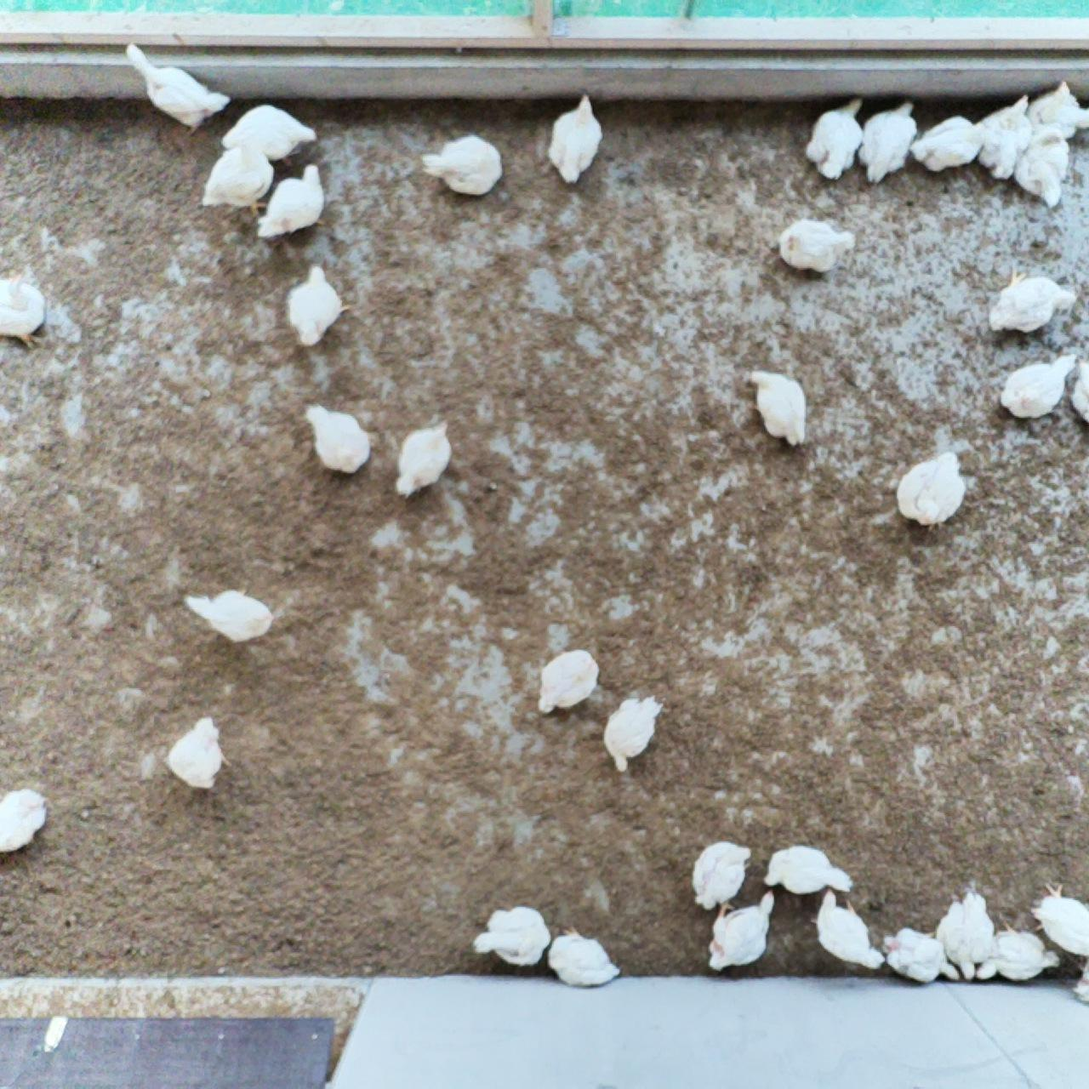chicken: (126, 45, 231, 138), (215, 101, 317, 167), (253, 161, 331, 244), (973, 88, 1041, 181), (999, 345, 1078, 423), (200, 136, 273, 219), (803, 94, 872, 181), (705, 891, 779, 971), (740, 366, 807, 454), (812, 890, 884, 970), (285, 266, 353, 350), (990, 267, 1074, 334), (854, 96, 920, 181), (602, 692, 673, 771), (973, 918, 1060, 981), (937, 890, 997, 981), (897, 449, 966, 528), (758, 841, 849, 900), (547, 93, 602, 188), (473, 898, 548, 967), (396, 418, 458, 499), (418, 136, 503, 195), (877, 924, 956, 986), (305, 398, 371, 472), (548, 923, 622, 989), (165, 715, 228, 791), (539, 649, 602, 725), (912, 113, 990, 174), (689, 838, 755, 910), (183, 589, 274, 641), (1025, 888, 1089, 960), (1016, 133, 1078, 207), (775, 218, 854, 275), (0, 268, 52, 354), (1024, 83, 1089, 145), (0, 783, 48, 860), (1073, 351, 1089, 427), (1069, 958, 1089, 1012)
